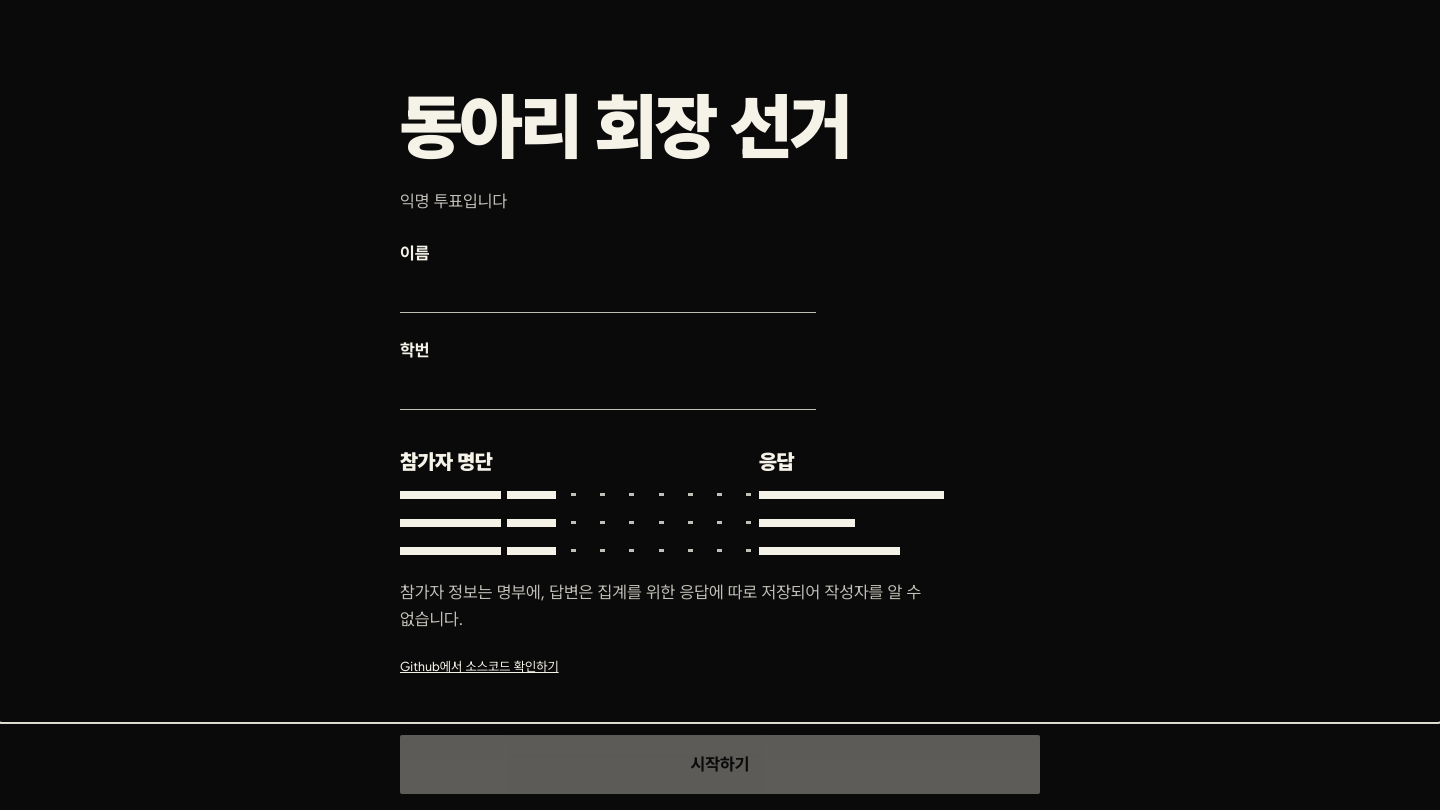
it: 응답과 제출 › 필수 문항을 비우고 다음으로 넘어가려 하면 막고 사유를 보여준다
Check: the heading "동아리 회장 선거" is shown, box [400,83,850,169]
In the field labelled "이름": (608, 294) [400,275,816,313], type "홍길동"
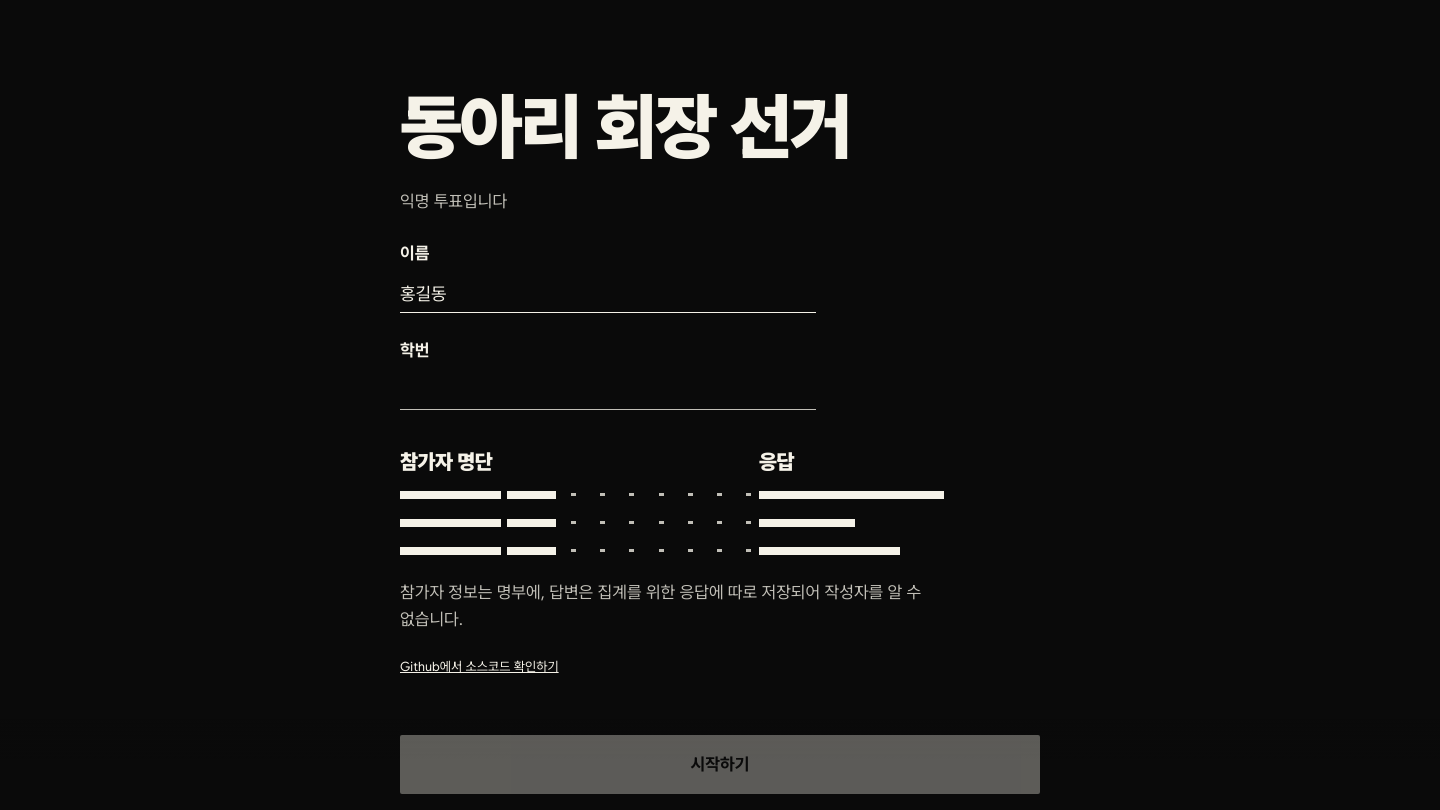
In the field labelled "학번": (608, 391) [400,372,816,410], type "20250001"
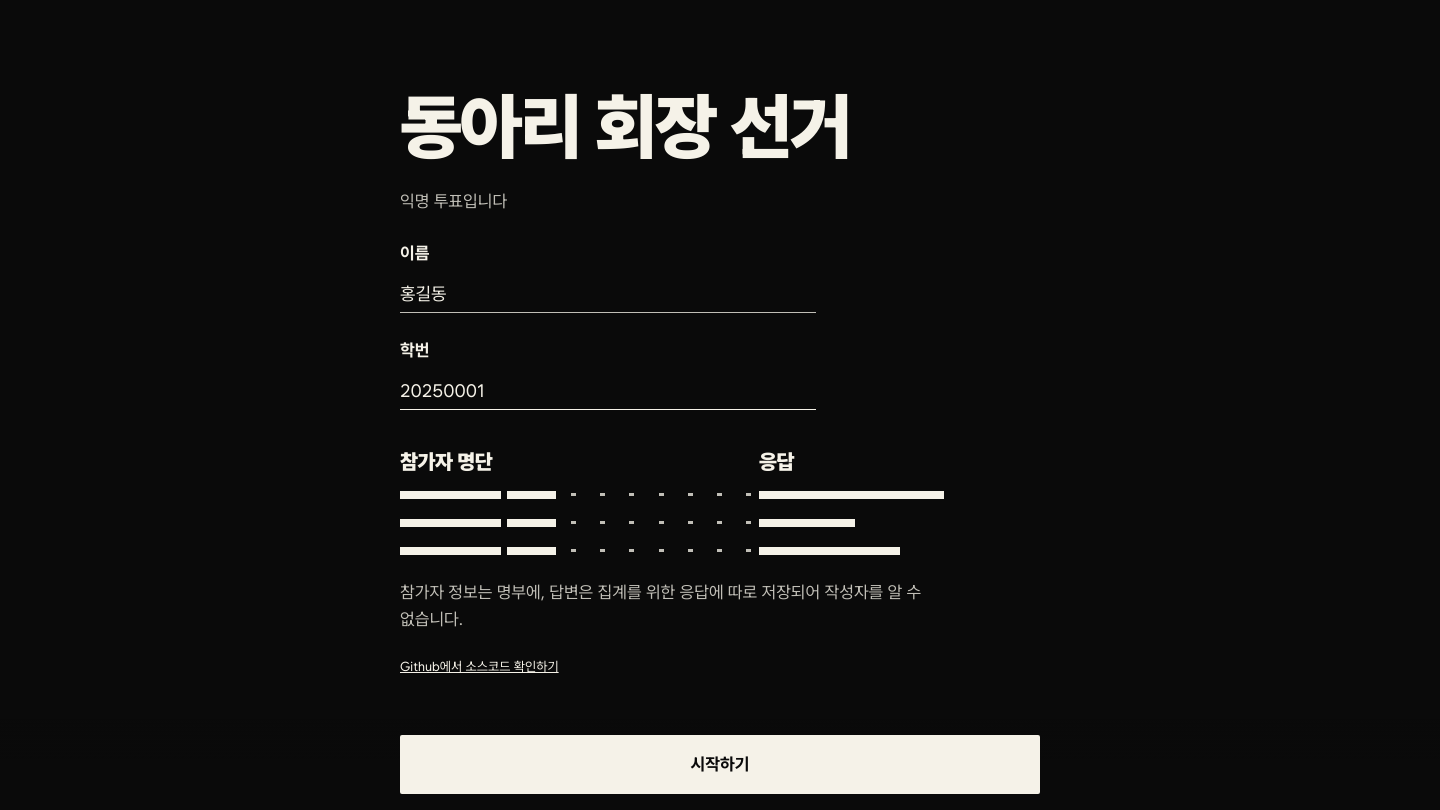
Click the button "시작하기": (720, 764) [400,735,1040,794]
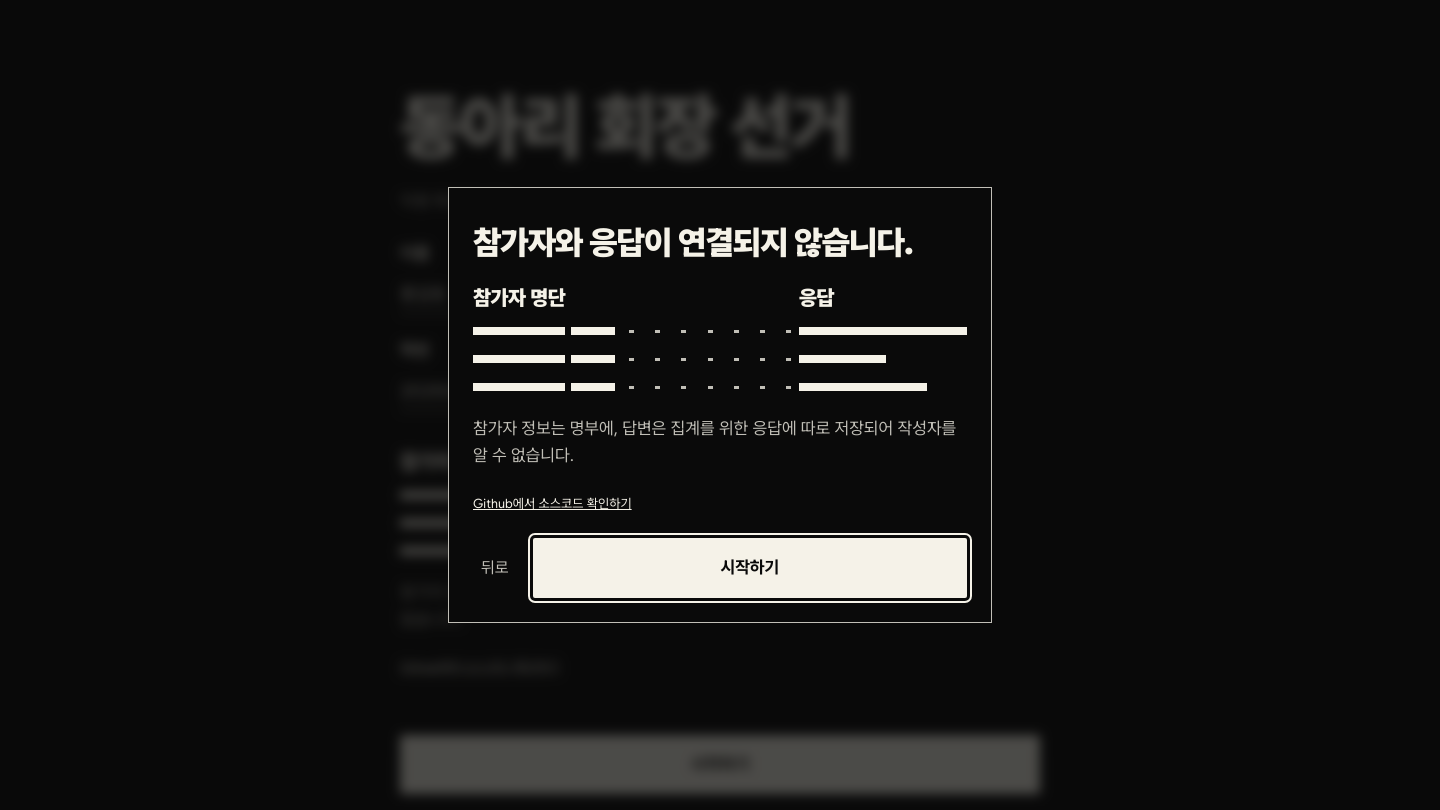
Click the button "시작하기": (750, 568) [533,538,967,598]
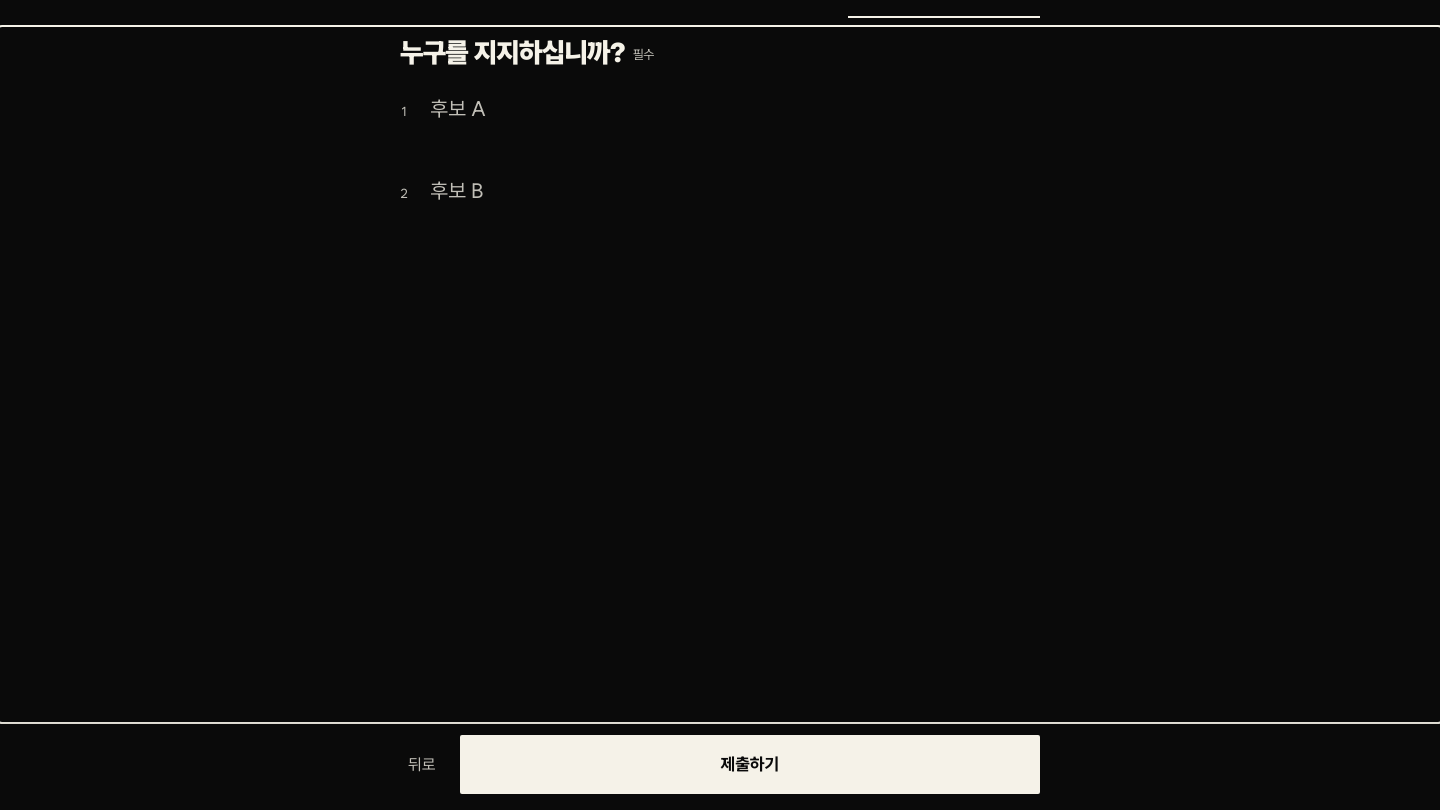
Click the button "제출하기": (750, 764) [460,735,1040,794]
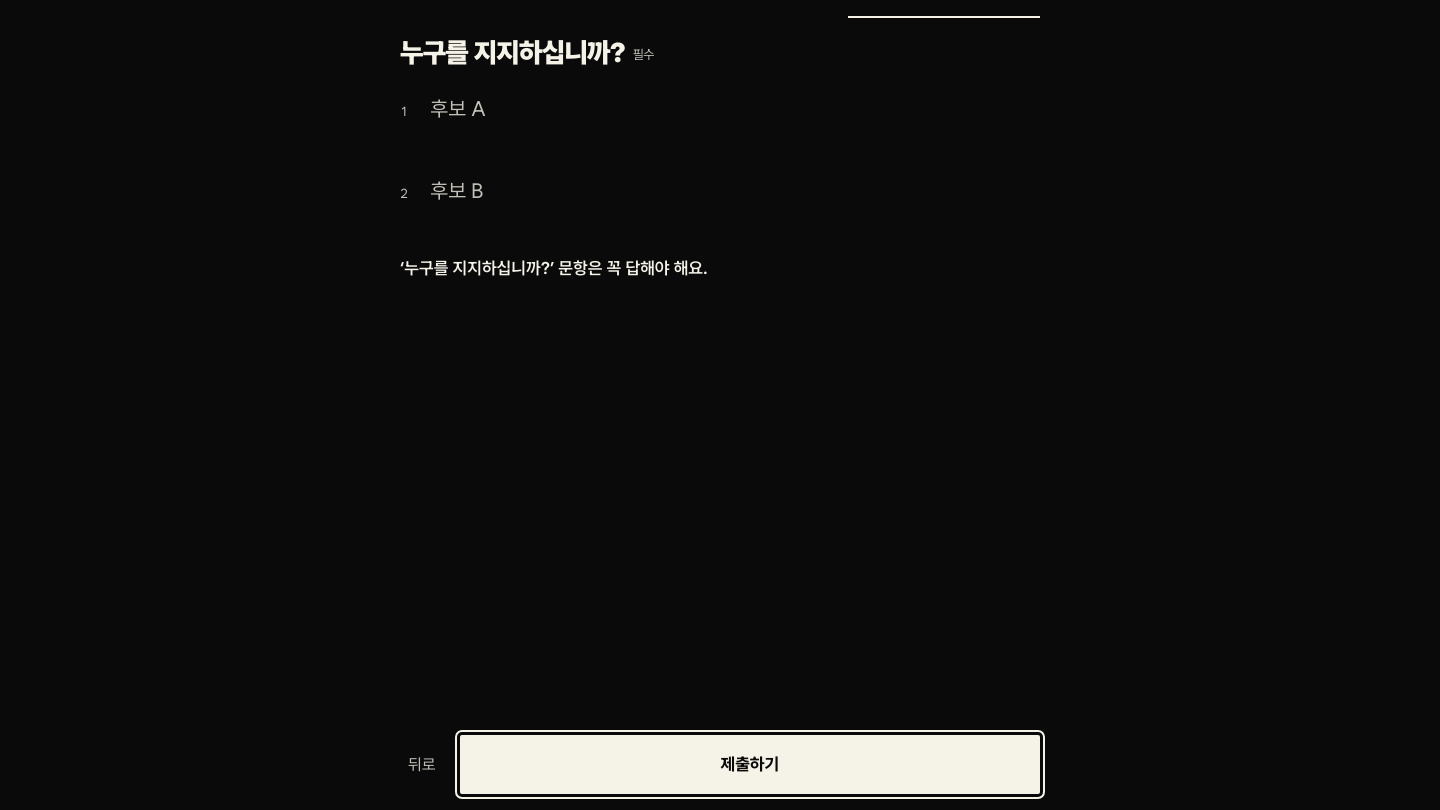
Check: the radio button labelled "후보 A" is shown, box [405,96,420,111]
Check: the text "‘누구를 지지하십니까?’ 문항은 꼭 답해야 해요." is shown, box [400,258,708,278]
